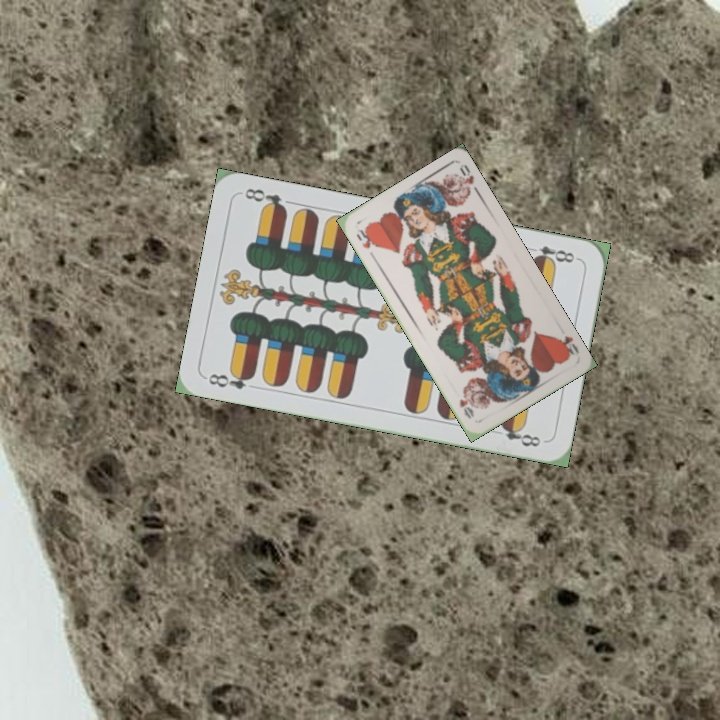E8: (523, 241, 581, 267), (202, 367, 257, 392)
HO: (352, 224, 379, 262), (553, 331, 582, 360)
